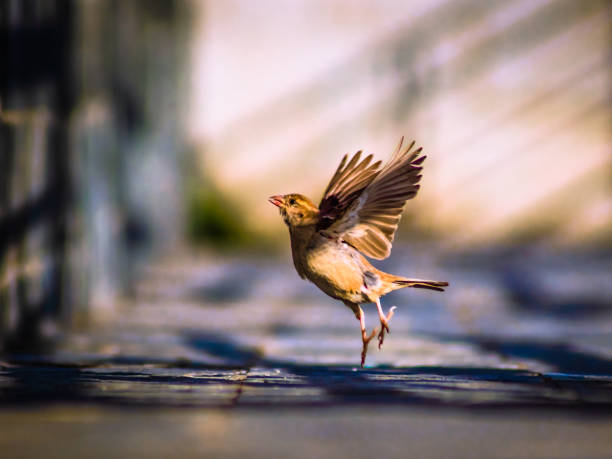Bird: (262, 134, 448, 371)
